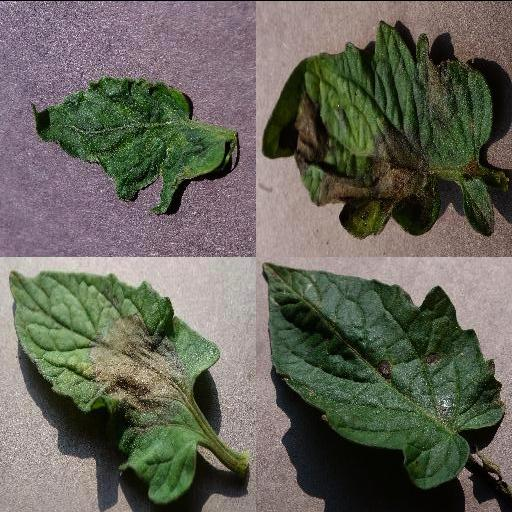Late Blight: (260, 260, 502, 490), (261, 18, 497, 238), (6, 268, 222, 504)
Mosaic Virus: (26, 75, 224, 215)
